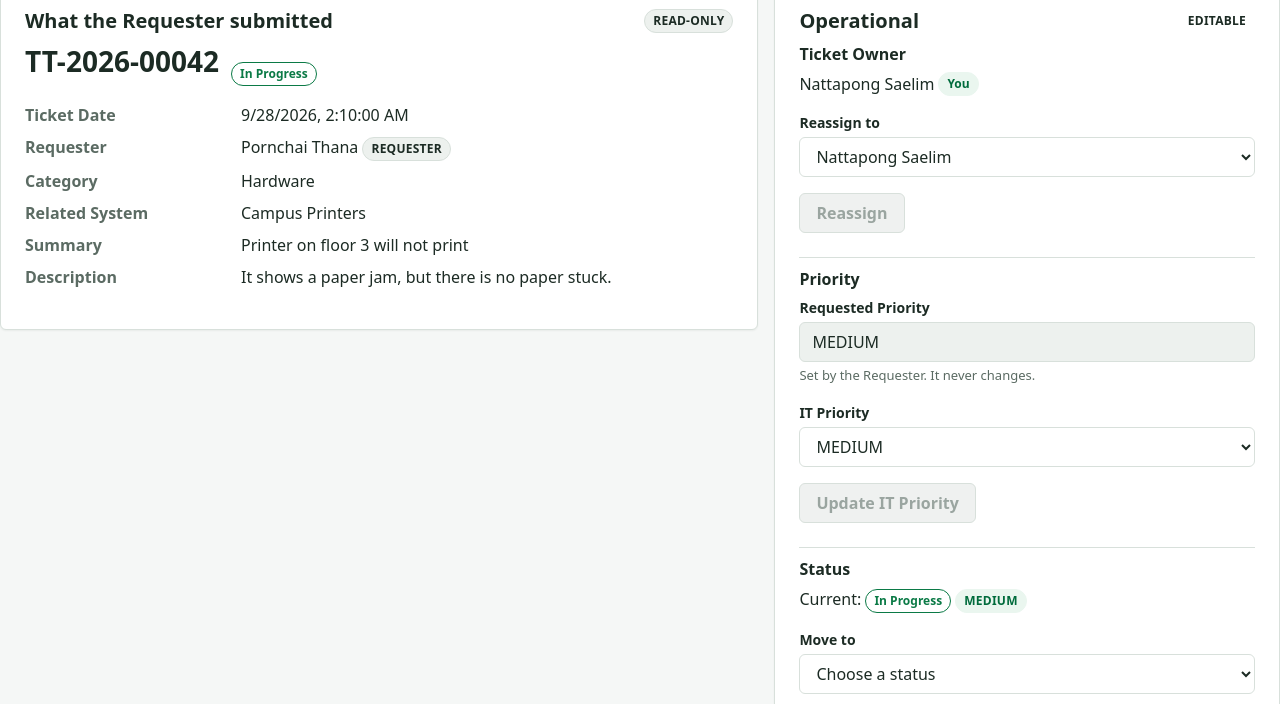
Test case: UI-12 a gate refusal that reaches the server (AC-03, AC-16, BR-18) › shows {"status":409,"code":"FOLLOW_UP_PENDING","fields":{}} as its own callout with the API's sentence, never as a generic failure
expect the heading "TT-2026-00042" is shown: met, box [25,45,219,79]
Select "Resolved" in the dropdown labelled "Move to" at (1027, 674), box [799,654,1255,694]
(page scrolled)
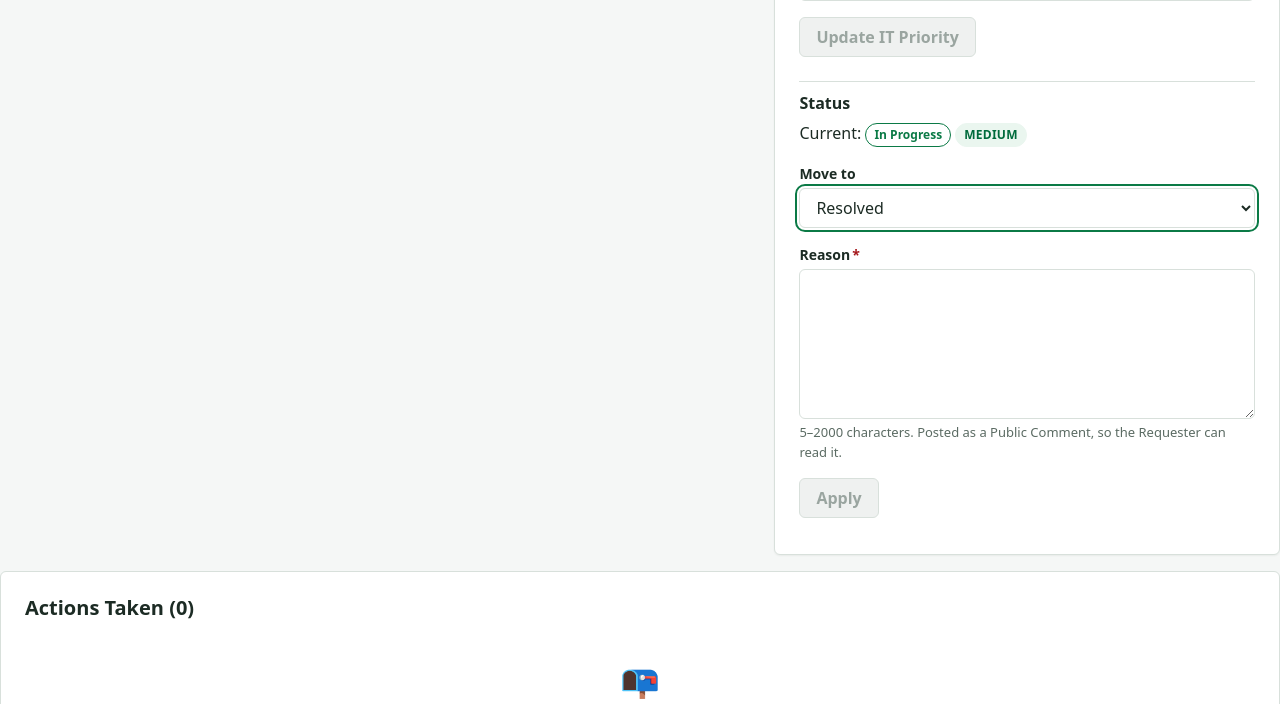
Type "Toner replaced and tested." into the text box labelled "Reason*".
click(1027, 344); type("Toner replaced and tested.")  # box [799,269,1255,419]
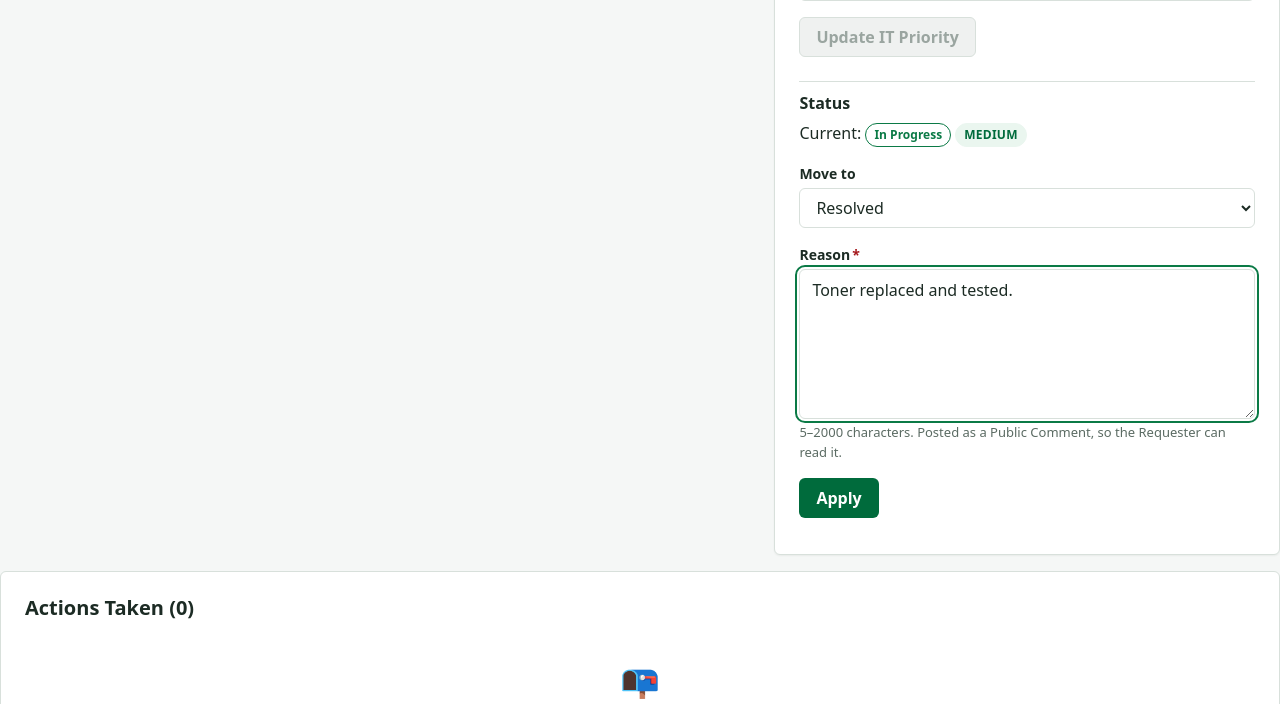
Click the button "Apply".
click(839, 498)  # box [799,478,879,518]
(page scrolled)
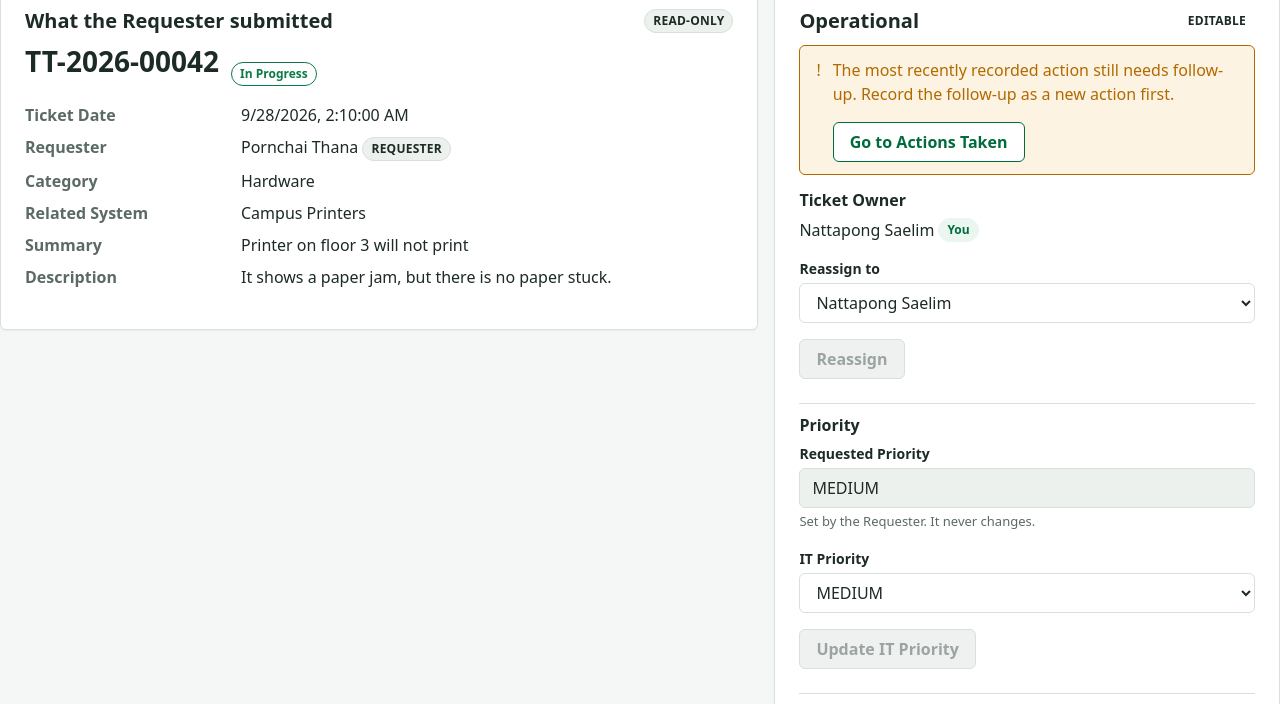
expect the message shows "The most recently recorded action still needs follow-up. Record the follow-up as a new action first.": met, box [833,59,1223,105]
